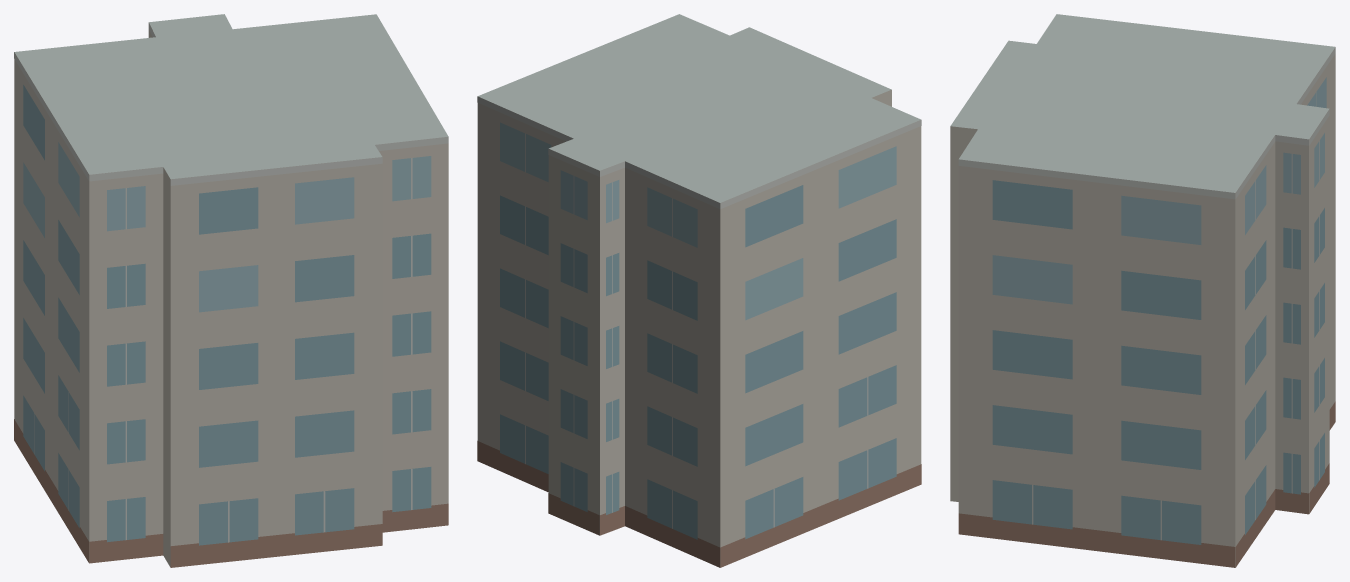
The model's file is survey-upis-32877810.glb.
The picture shows the model from 3 angles, left to right: view 1: azimuth 30°, elevation 25°; view 2: azimuth 150°, elevation 25°; view 3: azimuth 270°, elevation 25°; orthographic projection. The views are drawn at different scales.
Visible parts, largest first — view 1: survey-upis-32877810.tmp; view 2: survey-upis-32877810.tmp; view 3: survey-upis-32877810.tmp.
Part boxes in pixels (<box>): survey-upis-32877810.tmp: <box>14,14,448,567</box>; survey-upis-32877810.tmp: <box>477,14,921,567</box>; survey-upis-32877810.tmp: <box>950,14,1335,567</box>.
Size of the model in its own units: 14.53 by 14.19 by 13.23.
